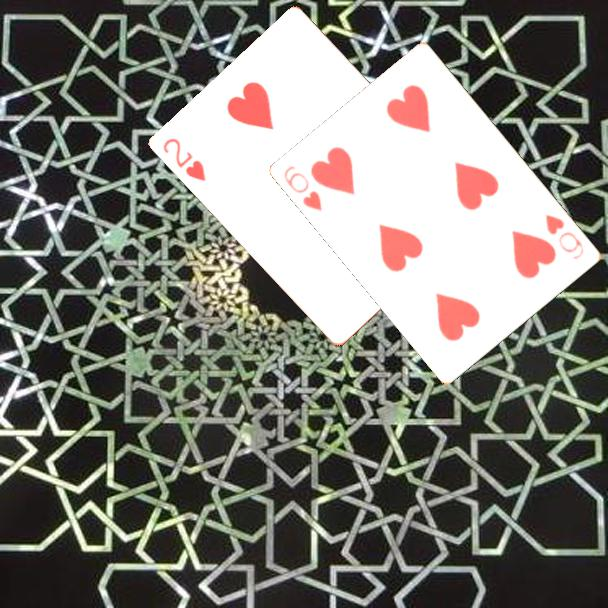h02: (160, 135, 209, 184)
h06: (542, 211, 588, 262), (281, 162, 326, 214)
